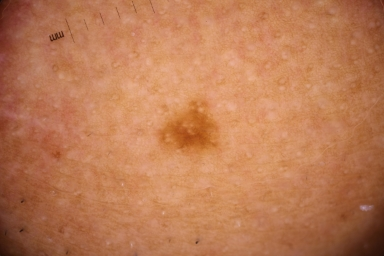nevus: (156, 112, 218, 152)
